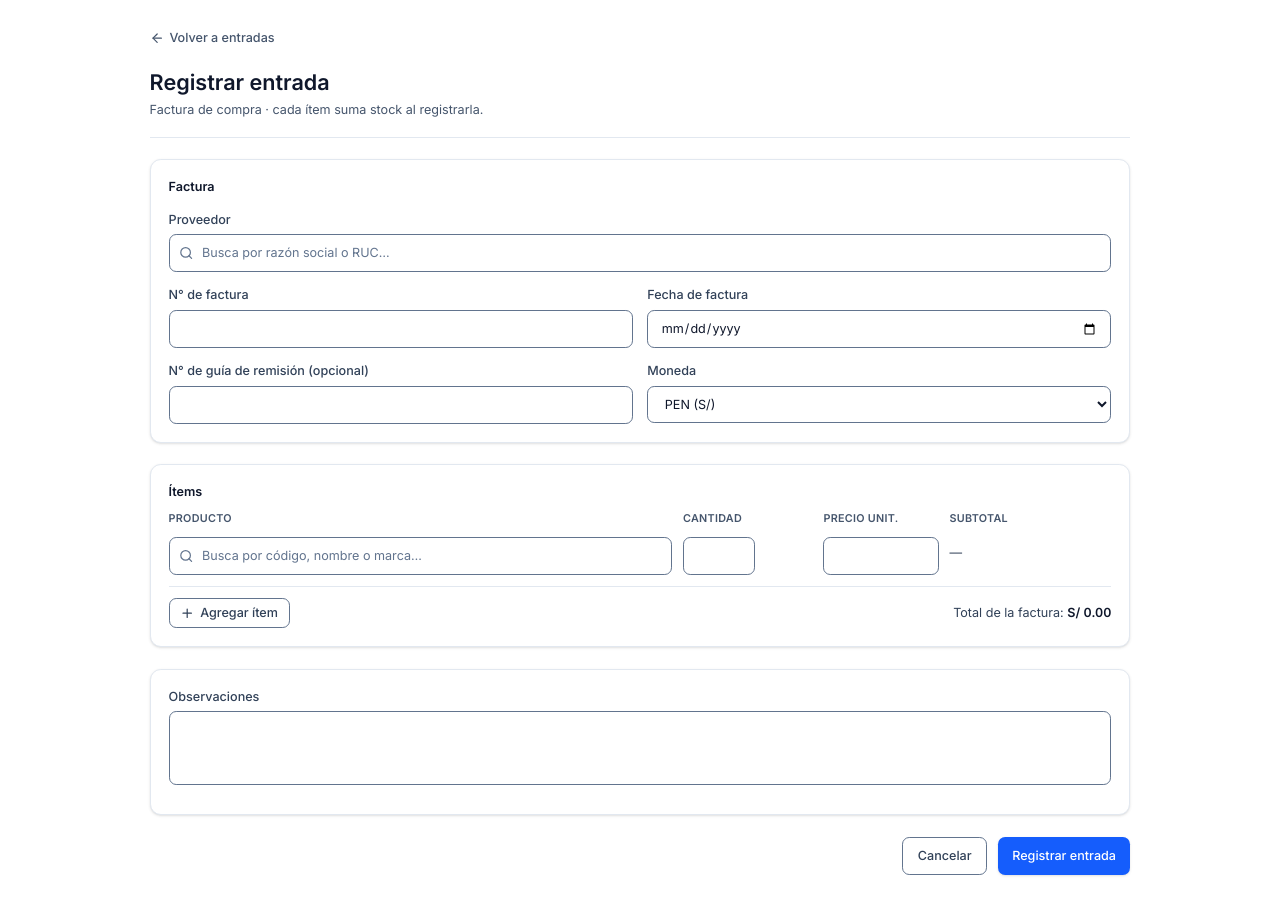
EntryCreatePage › recalcula el total al quitar un ítem
In the number field named "Cantidad del ítem 1": [719, 556] box [683,537,755,575], type "10"
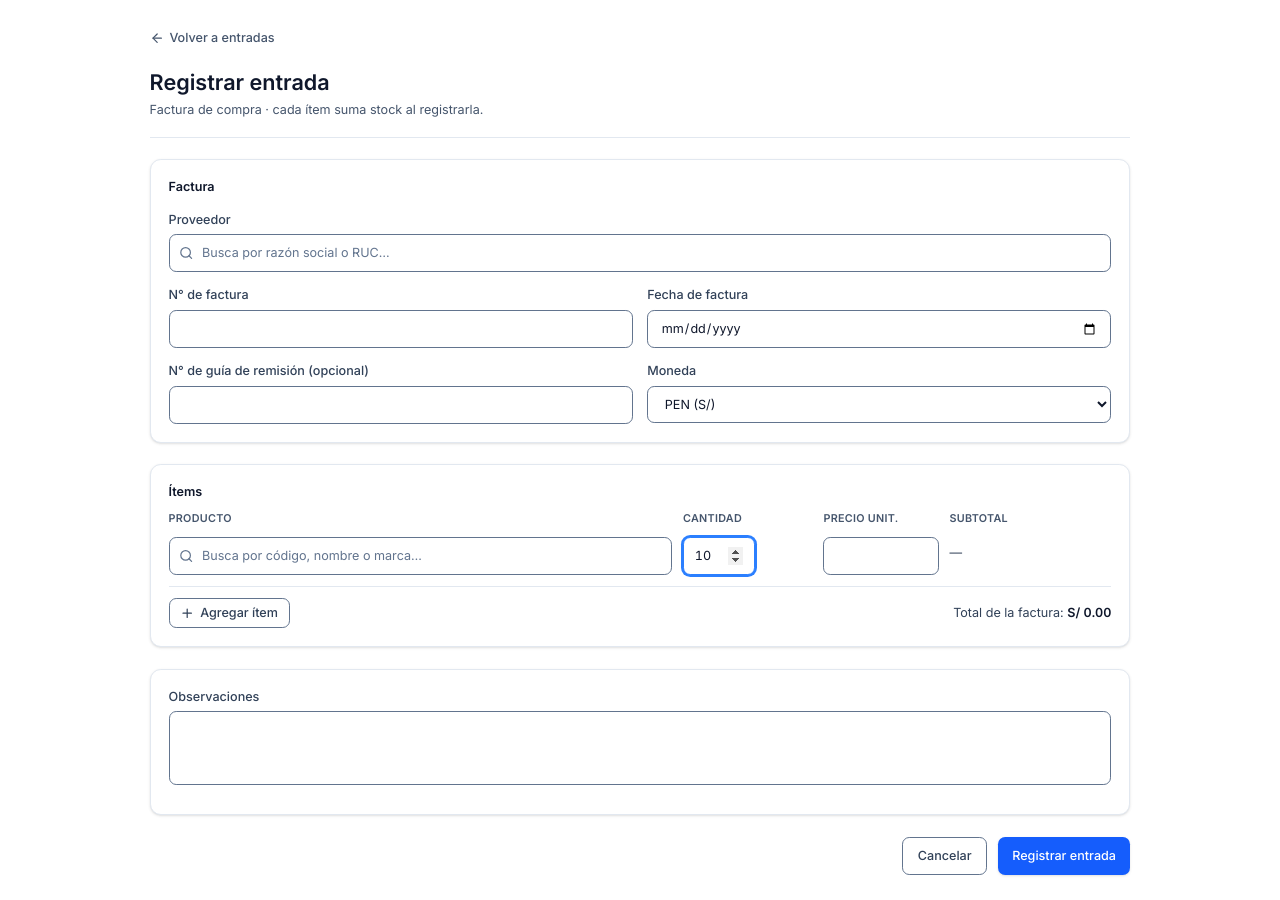
In the number field named "Precio unitario del ítem 1": [881, 556] box [823,537,939,575], type "45"
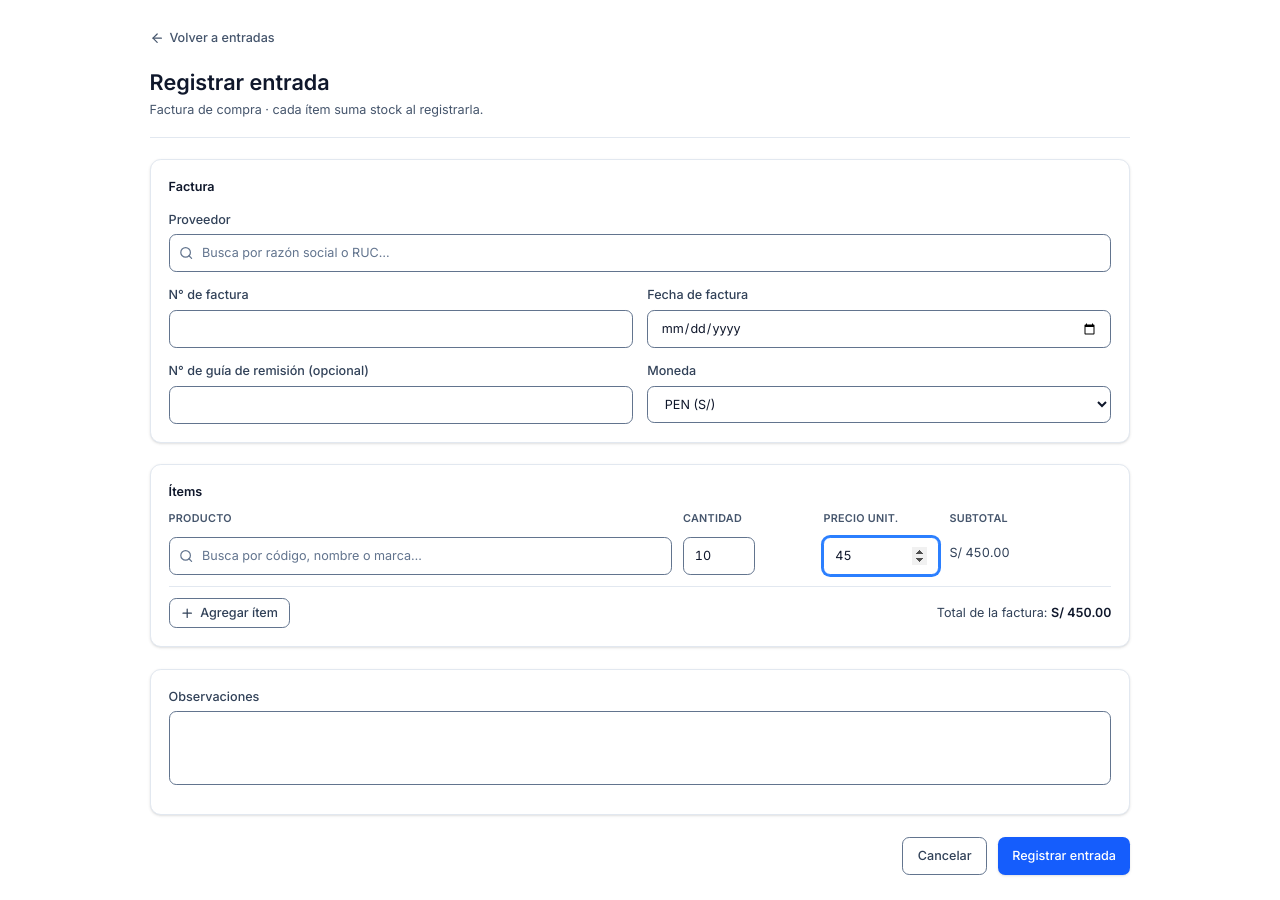
Click the button "Agregar ítem": [229, 613] box [169,598,290,628]
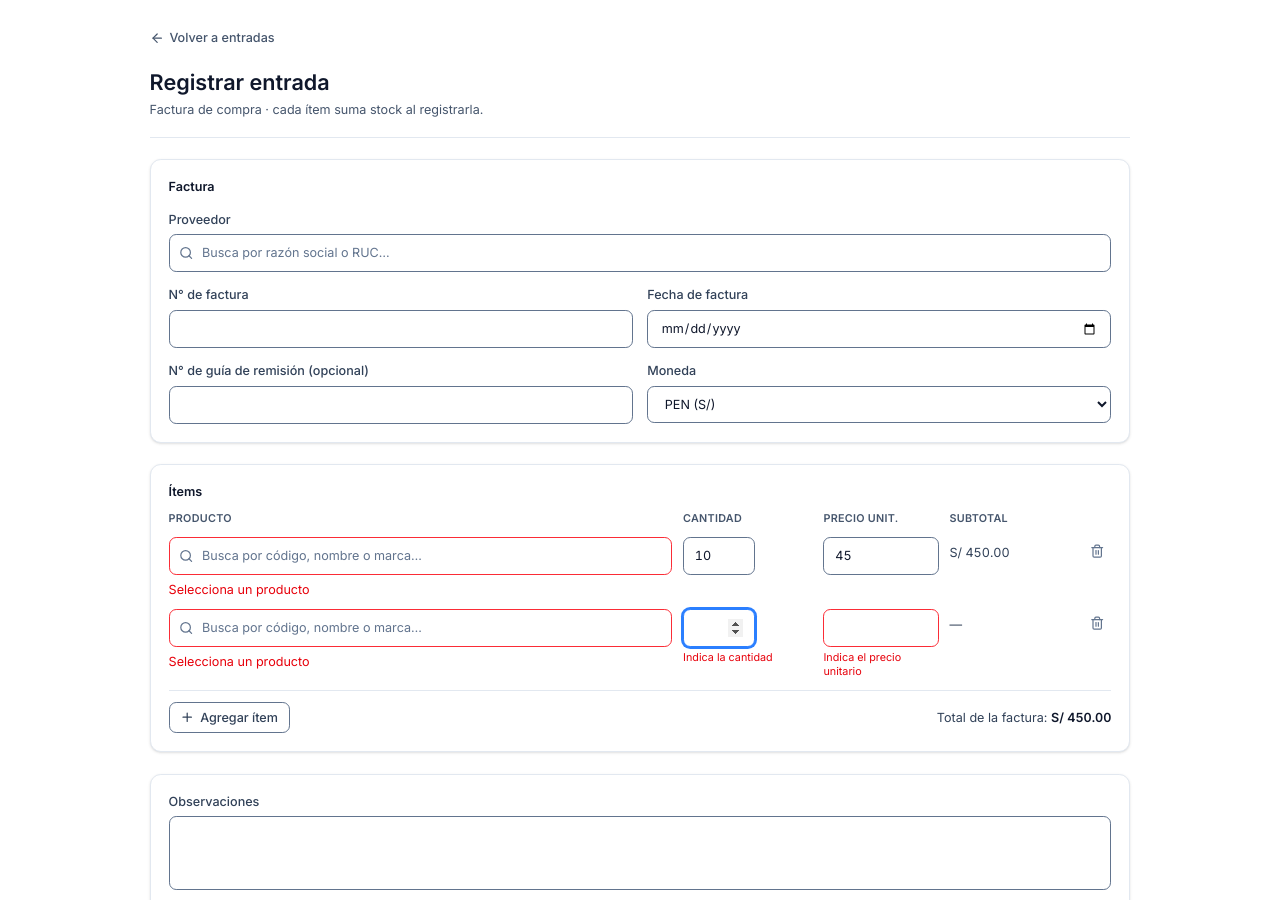
In the number field named "Cantidad del ítem 2": [719, 628] box [683,609,755,647], type "2"
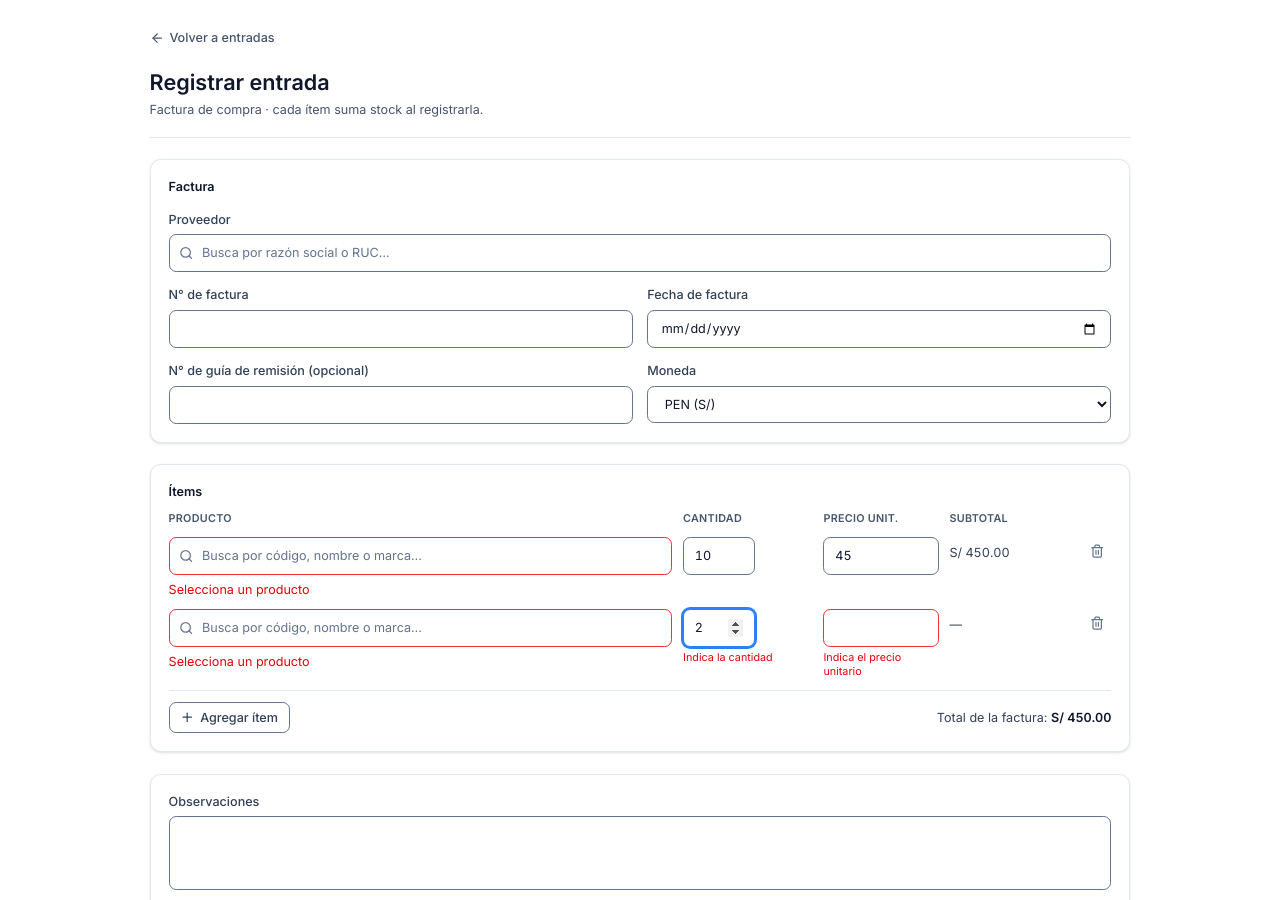
In the number field named "Precio unitario del ítem 2": [881, 628] box [823,609,939,647], type "10"
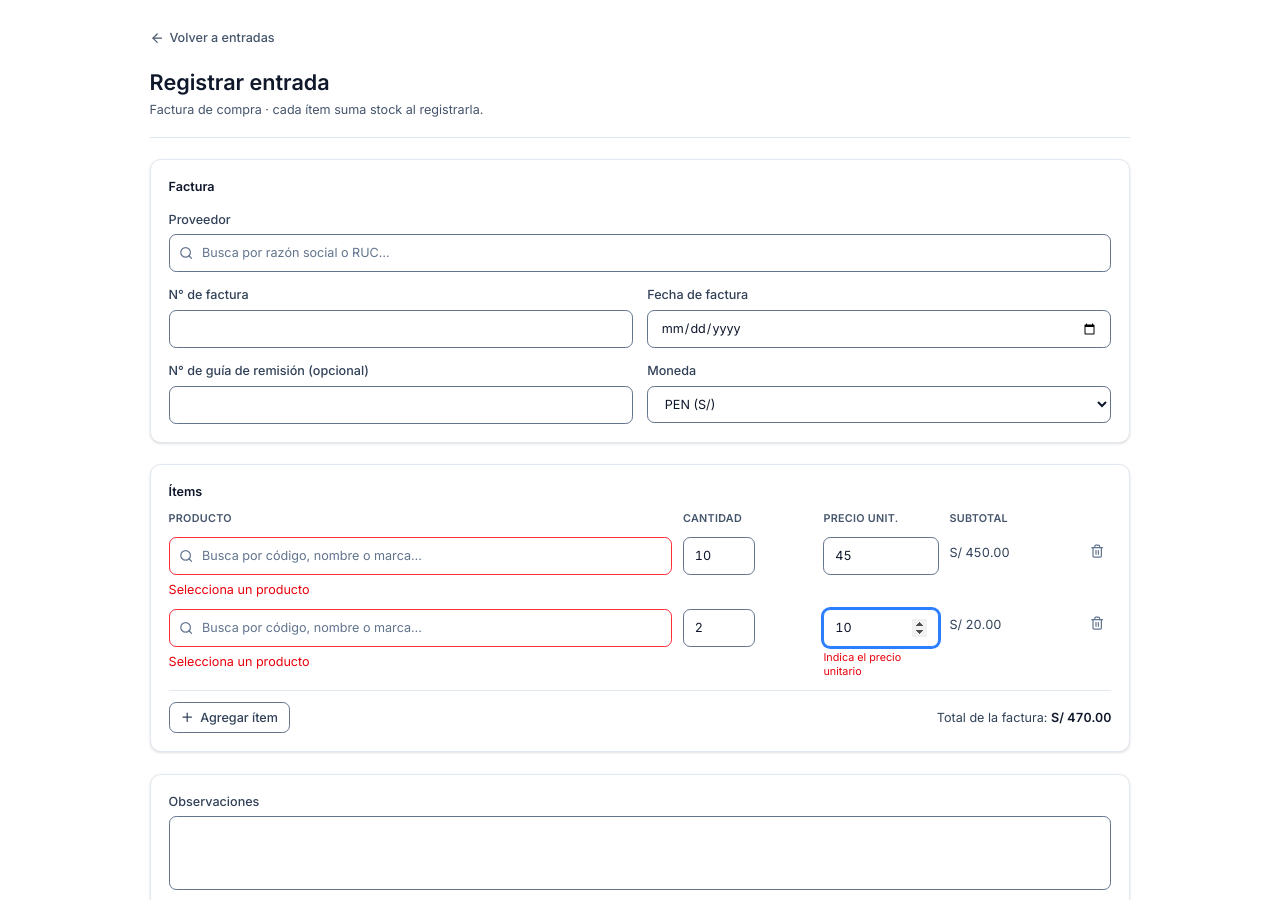
Now the text "S/ 470.00" is shown, box [1051,710,1111,725]
Click the button named "Quitar el ítem 2": [1097, 624] box [1083,609,1111,638]
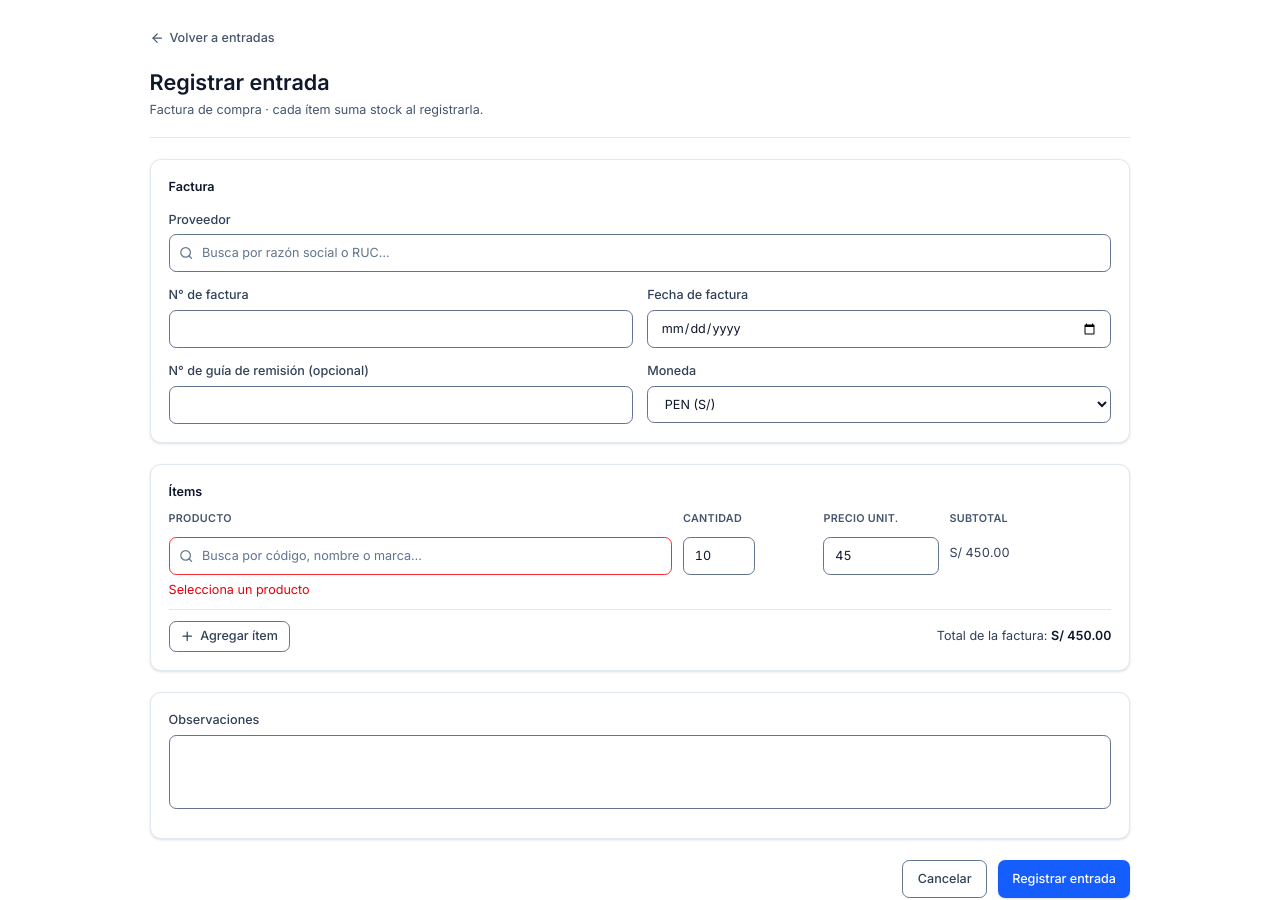
Now the text "S/ 450.00" is shown 2 times, box [949,545,1010,560]; [1051,628,1111,644]
